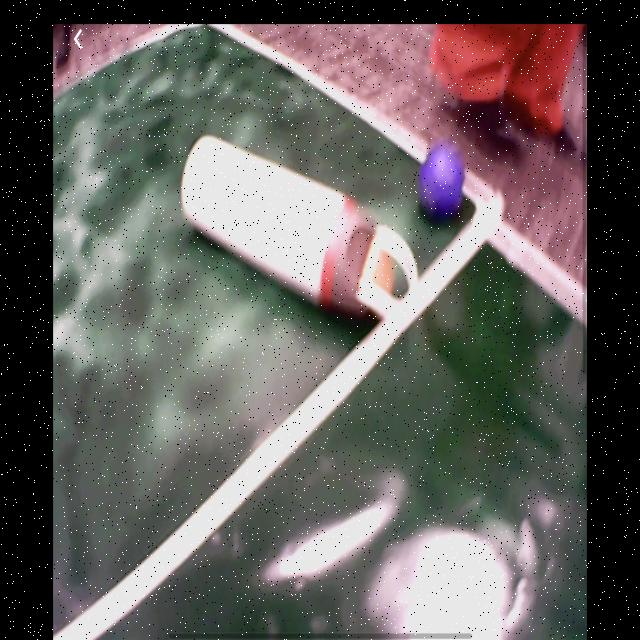ball: (420, 150, 466, 219)
